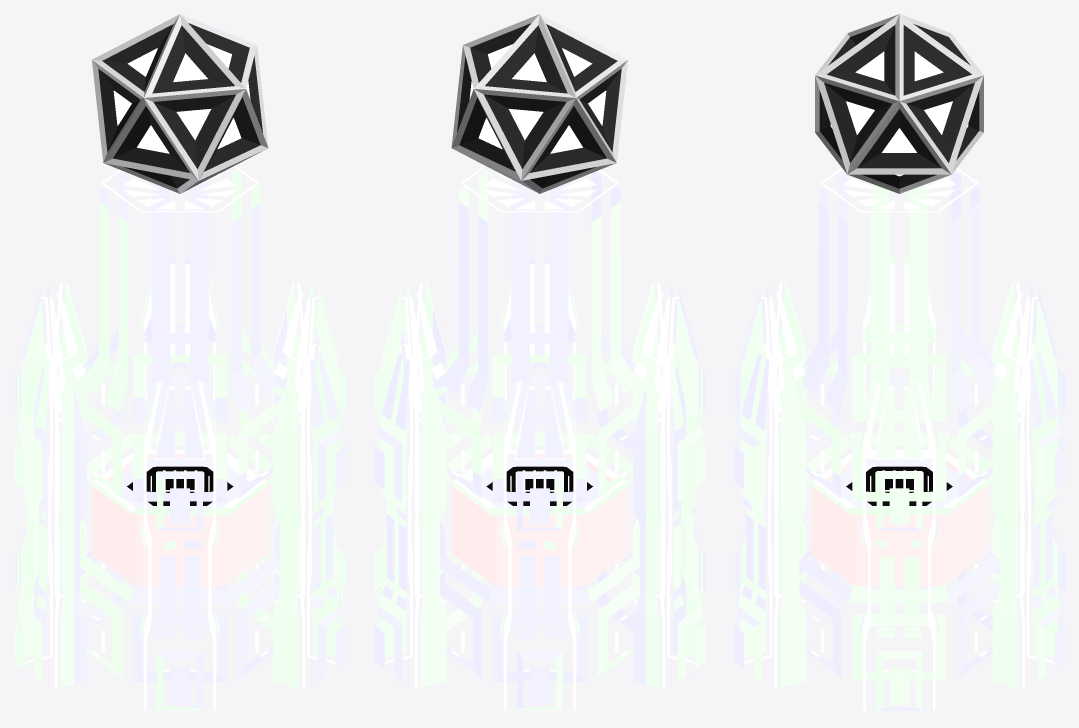
File: bypass3.fbx
3 views of the same model, side by side, from view 1: azimuth 30°, elevation 25°; view 2: azimuth 150°, elevation 25°; view 3: azimuth 270°, elevation 25° (orthographic).
Parts seen in each view (by area): view 1: SciFI tower 1, neon007, SciFI tower sphere, neon006, MediumPowerNode_Glass, neon004, neon005; view 2: SciFI tower 1, neon007, SciFI tower sphere, neon006, MediumPowerNode_Glass, neon004, neon005; view 3: SciFI tower 1, SciFI tower sphere, neon006, MediumPowerNode_Glass, neon004, neon005.
Boxes of the visible parts, left/top/right/bottom form: SciFI tower 1: left=14, top=165, right=345, bottom=710; neon007: left=14, top=257, right=345, bottom=711; SciFI tower sphere: left=92, top=14, right=268, bottom=193; neon006: left=82, top=169, right=277, bottom=412; MediumPowerNode_Glass: left=92, top=450, right=267, bottom=586; neon004: left=113, top=44, right=250, bottom=153; neon005: left=123, top=173, right=236, bottom=208; SciFI tower 1: left=374, top=165, right=705, bottom=710; neon007: left=374, top=257, right=705, bottom=711; SciFI tower sphere: left=451, top=14, right=627, bottom=193; neon006: left=442, top=169, right=637, bottom=412; MediumPowerNode_Glass: left=452, top=450, right=627, bottom=586; neon004: left=469, top=44, right=606, bottom=153; neon005: left=483, top=173, right=596, bottom=208; SciFI tower 1: left=734, top=167, right=1064, bottom=711; SciFI tower sphere: left=815, top=14, right=983, bottom=193; neon006: left=802, top=171, right=996, bottom=412; MediumPowerNode_Glass: left=811, top=450, right=987, bottom=586; neon004: left=830, top=51, right=968, bottom=176; neon005: left=843, top=178, right=955, bottom=208.
Bounding box in the file's own units: 145 × 271 × 129.
